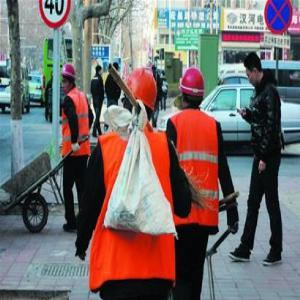none: (244, 50, 264, 88), (95, 63, 103, 78)
red: (180, 65, 208, 114), (61, 61, 76, 96)
yellow: (124, 68, 158, 125)
